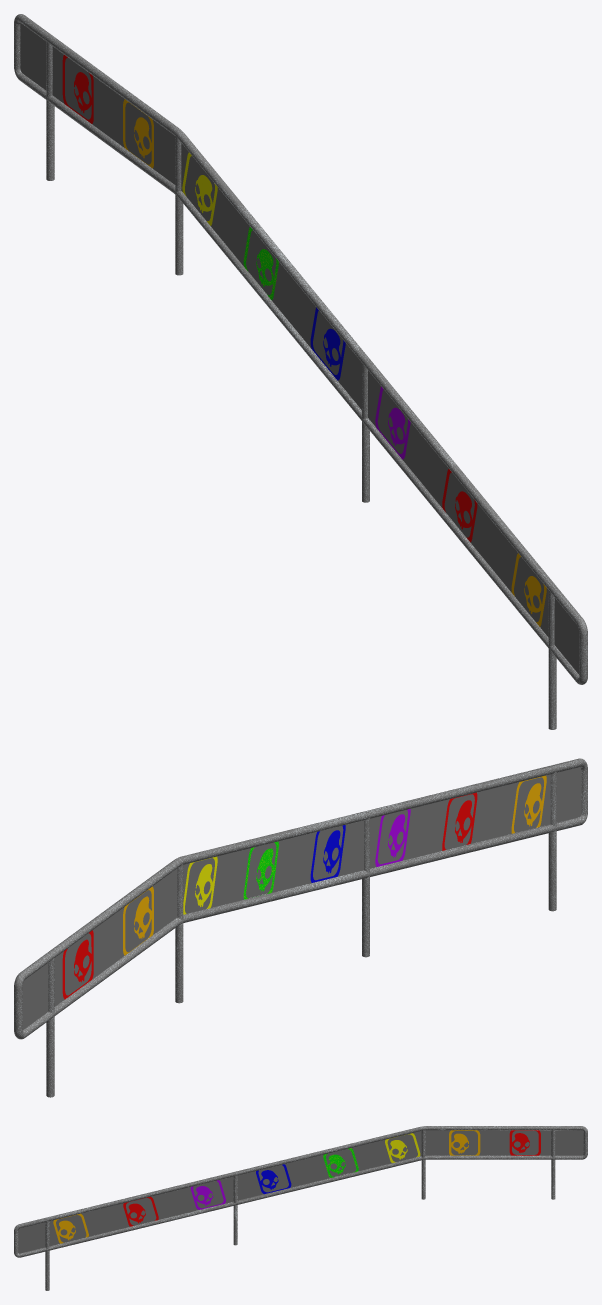
The model's file is skullcandydown.fbx.
3 views of the same model, one above another, from view 1: azimuth 30°, elevation 25°; view 2: azimuth 150°, elevation 25°; view 3: azimuth 270°, elevation 25° (orthographic). The views are drawn at different scales.
Parts seen in each view (by area): view 1: SketchUp.004, SketchUp.046, SketchUp.003, SketchUp.041, SketchUp.035, SketchUp.025, SketchUp, SketchUp.019, SketchUp.001, SketchUp.020, SketchUp.005, SketchUp.010 (+2 smaller); view 2: SketchUp.004, SketchUp.046, SketchUp.041, SketchUp.035, SketchUp.003, SketchUp, SketchUp.025, SketchUp.001, SketchUp.019, SketchUp.020, SketchUp.010, SketchUp.005 (+18 smaller); view 3: SketchUp.004, SketchUp.046, SketchUp.003, SketchUp.041, SketchUp.035, SketchUp, SketchUp.001, SketchUp.025, SketchUp.019, SketchUp.020, SketchUp.012, SketchUp.013 (+18 smaller).
Boxes of the visible parts, x1,y1,x2,y2 form: SketchUp.004: [14, 14, 587, 684]; SketchUp.046: [470, 503, 517, 592]; SketchUp.003: [20, 23, 64, 103]; SketchUp.041: [403, 422, 448, 507]; SketchUp.035: [272, 262, 316, 348]; SketchUp.025: [211, 187, 249, 266]; SketchUp: [540, 588, 579, 674]; SketchUp.019: [92, 76, 124, 147]; SketchUp.001: [338, 343, 380, 427]; SketchUp.020: [153, 120, 188, 191]; SketchUp.005: [46, 41, 54, 180]; SketchUp.010: [548, 590, 556, 729]; SketchUp.004: [14, 758, 587, 1039]; SketchUp.046: [470, 782, 519, 843]; SketchUp.041: [402, 799, 449, 860]; SketchUp.035: [272, 832, 316, 892]; SketchUp.003: [22, 951, 64, 1029]; SketchUp: [540, 767, 581, 826]; SketchUp.025: [211, 848, 250, 907]; SketchUp.001: [338, 816, 381, 876]; SketchUp.019: [92, 907, 124, 979]; SketchUp.020: [152, 863, 189, 934]; SketchUp.010: [548, 772, 556, 911]; SketchUp.005: [46, 958, 54, 1097]; SketchUp.004: [14, 1126, 587, 1257]; SketchUp.046: [81, 1203, 129, 1236]; SketchUp.003: [539, 1130, 583, 1155]; SketchUp.041: [151, 1187, 198, 1219]; SketchUp.035: [285, 1154, 329, 1187]; SketchUp: [18, 1220, 59, 1253]; SketchUp.001: [219, 1171, 263, 1203]; SketchUp.025: [351, 1140, 391, 1171]; SketchUp.019: [478, 1130, 510, 1155]; SketchUp.020: [413, 1130, 450, 1156]; SketchUp.012: [509, 1130, 540, 1155]; SketchUp.013: [512, 1130, 538, 1154].
Size of the model in its own units: 5.08 by 212 by 674.
